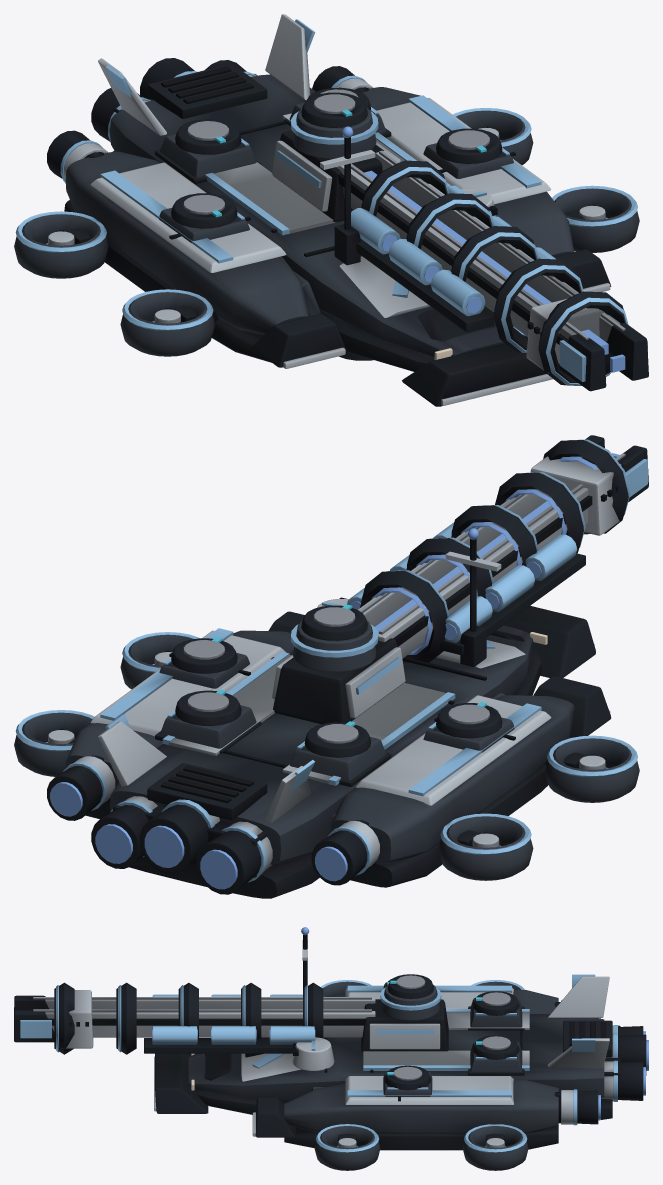
File: ex_lancer_8.glb
3 renders of one model, top to bottom at view 1: azimuth 30°, elevation 25°; view 2: azimuth 150°, elevation 25°; view 3: azimuth 270°, elevation 25°, orthographic. The views are drawn at different scales.
Visible parts, largest first — view 1: body; view 2: body; view 3: body.
Boxes of the visible parts, box(x1,y1,x2,y2) form: body: box(14, 14, 648, 406); body: box(14, 435, 648, 898); body: box(14, 927, 648, 1170).
Size of the model in its own units: 10.55 by 4.25 by 16.45.
